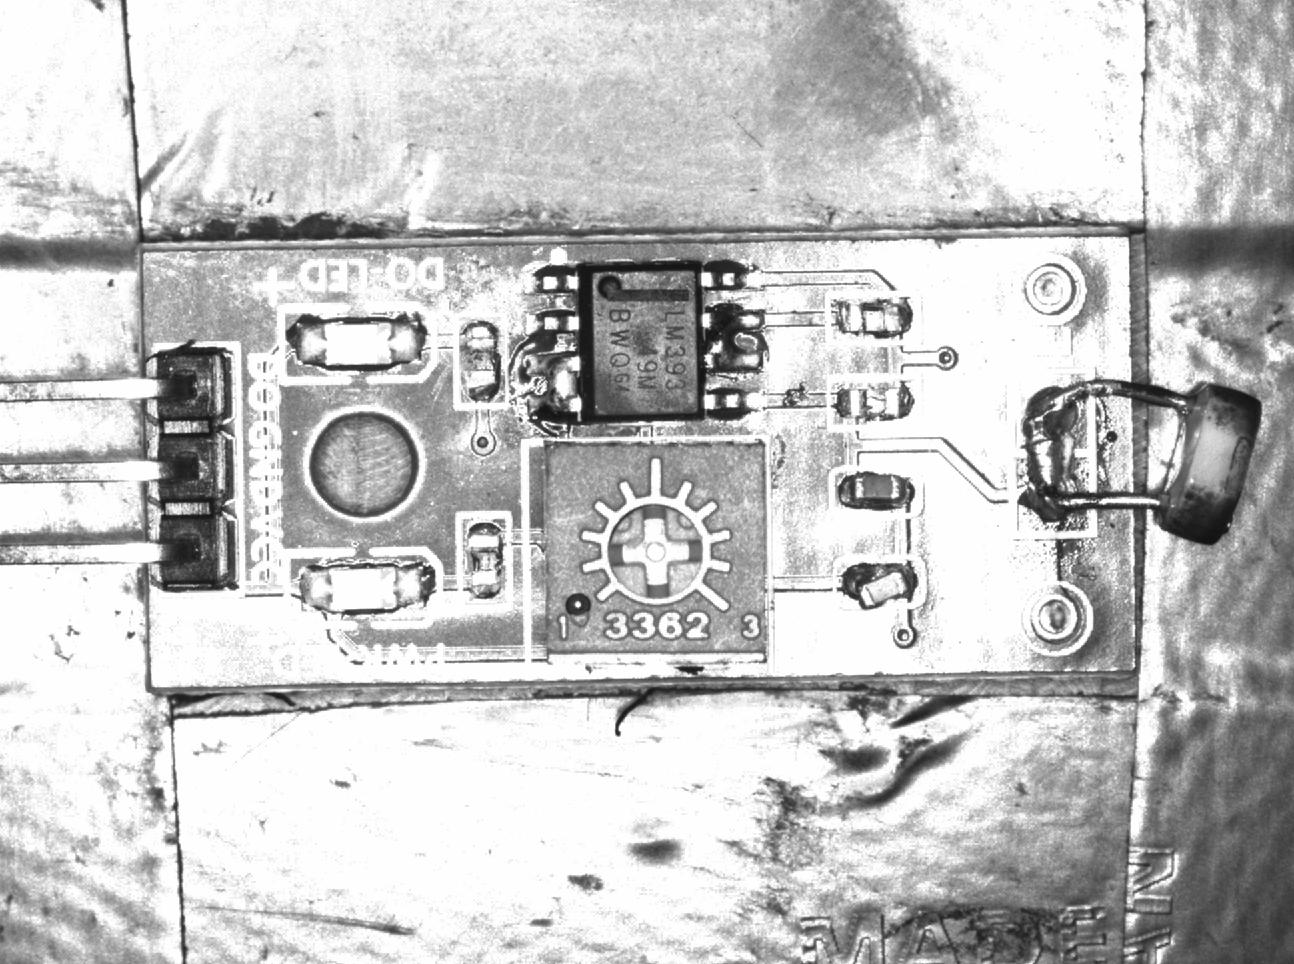bridge: (1010, 372, 1095, 536), (702, 302, 769, 374), (520, 347, 583, 422)
lifted: (835, 556, 917, 609)
miss: (819, 374, 924, 428), (825, 286, 921, 343), (458, 510, 513, 610), (454, 318, 505, 411)
ok: (820, 465, 924, 516)
